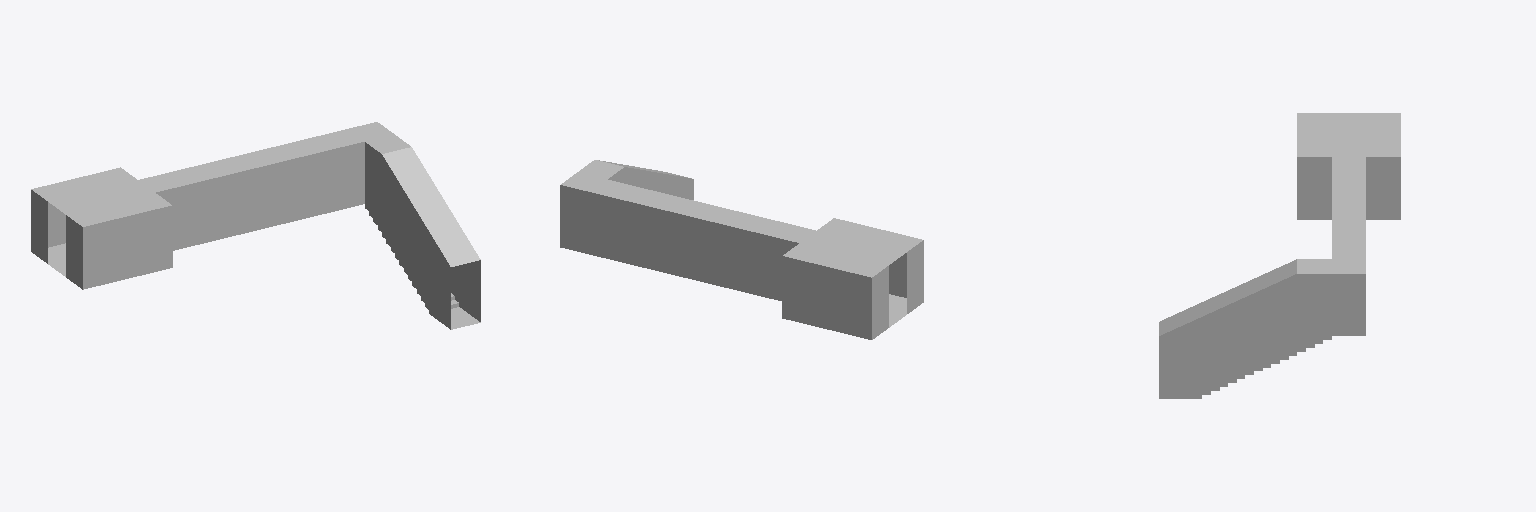
File: map0.obj
The picture shows the model from 3 angles: view 1: azimuth 30°, elevation 25°; view 2: azimuth 150°, elevation 25°; view 3: azimuth 270°, elevation 25°; orthographic projection.
Visible parts, largest first — view 1: map0; view 2: map0; view 3: map0.
Part boxes in pixels (bbox=[...]): map0: bbox=[31, 122, 480, 329]; map0: bbox=[560, 160, 923, 339]; map0: bbox=[1159, 113, 1400, 398].
Bounding box in the file's own units: 11 × 4 × 7.